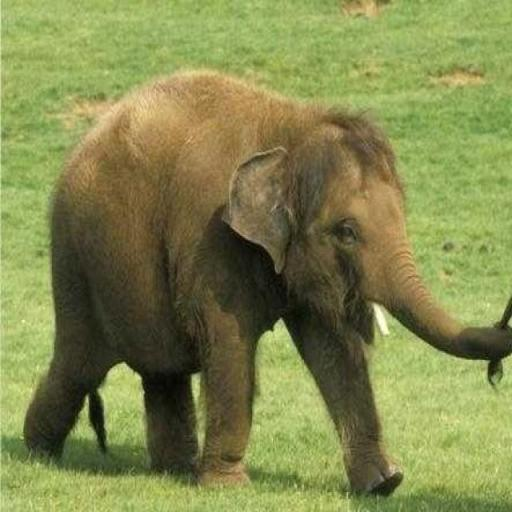Elephant: (22, 65, 511, 498)
